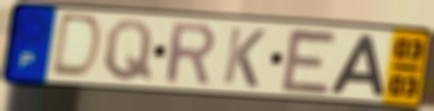A: (327, 33, 387, 97)
D: (47, 11, 105, 82)
E: (278, 26, 341, 97)
K: (219, 24, 268, 90)
Q: (102, 17, 156, 83)
R: (163, 21, 217, 88)
